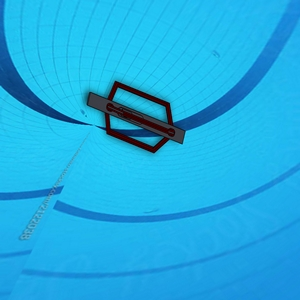submarine: (86, 80, 188, 152)
